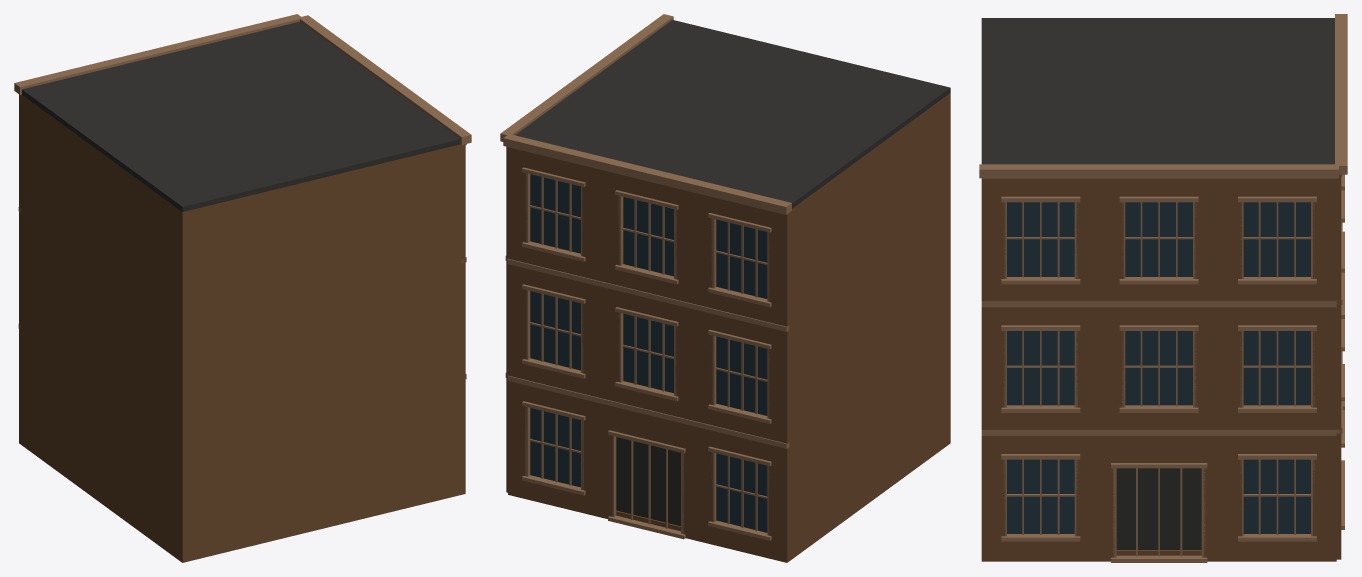
The model's file is warehouse_3b_3f_corner.obj.
The picture shows the model from 3 angles, left to right: view 1: azimuth 30°, elevation 25°; view 2: azimuth 150°, elevation 25°; view 3: azimuth 270°, elevation 25°; orthographic projection. The views are drawn at different scales.
Parts seen in each view (by area): view 1: rear_1, party_wall_2, roof_slab_241, foundation_0, cornice_121, cornice_240, wall_pier_3, wall_pier_41, wall_pier_81; view 2: party_wall_2, roof_slab_241, loading_door_19, cornice_121, recessed_glass_7, recessed_glass_45, recessed_glass_85, recessed_glass_111, recessed_glass_31, recessed_glass_71, recessed_glass_58, recessed_glass_98 (+41 smaller); view 3: roof_slab_241, loading_door_138, cornice_240, recessed_glass_204, recessed_glass_217, recessed_glass_230, recessed_glass_177, recessed_glass_164, recessed_glass_190, recessed_glass_126, recessed_glass_150, wall_pier_122 (+59 smaller).
Boxes of the visible parts, x1=… form: rear_1: x1=178, y1=144, x2=461, y2=562; party_wall_2: x1=21, y1=95, x2=189, y2=562; roof_slab_241: x1=22, y1=21, x2=460, y2=211; foundation_0: x1=21, y1=437, x2=461, y2=562; cornice_121: x1=14, y1=14, x2=302, y2=94; cornice_240: x1=299, y1=15, x2=471, y2=144; wall_pier_3: x1=19, y1=326, x2=23, y2=445; wall_pier_41: x1=19, y1=210, x2=23, y2=328; wall_pier_81: x1=19, y1=94, x2=23, y2=211; party_wall_2: x1=789, y1=96, x2=950, y2=558; roof_slab_241: x1=515, y1=20, x2=950, y2=208; loading_door_19: x1=616, y1=437, x2=680, y2=526; cornice_121: x1=503, y1=134, x2=791, y2=214; recessed_glass_7: x1=716, y1=453, x2=767, y2=532; recessed_glass_45: x1=716, y1=336, x2=767, y2=415; recessed_glass_85: x1=716, y1=219, x2=767, y2=298; recessed_glass_111: x1=530, y1=174, x2=580, y2=253; recessed_glass_31: x1=530, y1=408, x2=580, y2=487; recessed_glass_71: x1=530, y1=291, x2=580, y2=370; recessed_glass_58: x1=623, y1=314, x2=673, y2=393; recessed_glass_98: x1=623, y1=197, x2=673, y2=276; roof_slab_241: x1=981, y1=18, x2=1334, y2=164; loading_door_138: x1=1116, y1=468, x2=1201, y2=549; cornice_240: x1=979, y1=164, x2=1338, y2=178; recessed_glass_204: x1=1007, y1=202, x2=1074, y2=276; recessed_glass_217: x1=1125, y1=202, x2=1192, y2=276; recessed_glass_230: x1=1243, y1=202, x2=1310, y2=276; recessed_glass_177: x1=1125, y1=331, x2=1192, y2=405; recessed_glass_164: x1=1007, y1=331, x2=1074, y2=405; recessed_glass_190: x1=1243, y1=331, x2=1310, y2=405; recessed_glass_126: x1=1007, y1=459, x2=1074, y2=533; recessed_glass_150: x1=1243, y1=459, x2=1310, y2=533; wall_pier_122: x1=981, y1=436, x2=1005, y2=561.
Size of the model in its own units: 9.34 by 11.04 by 9.34.
